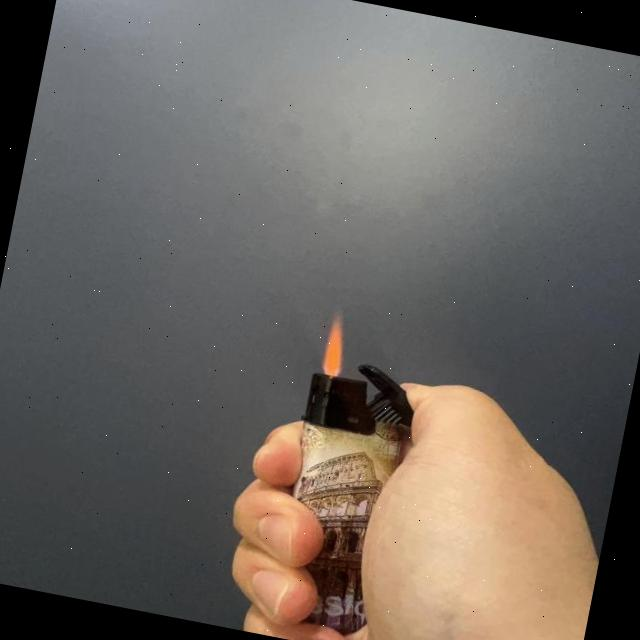fire: (318, 311, 354, 381)
